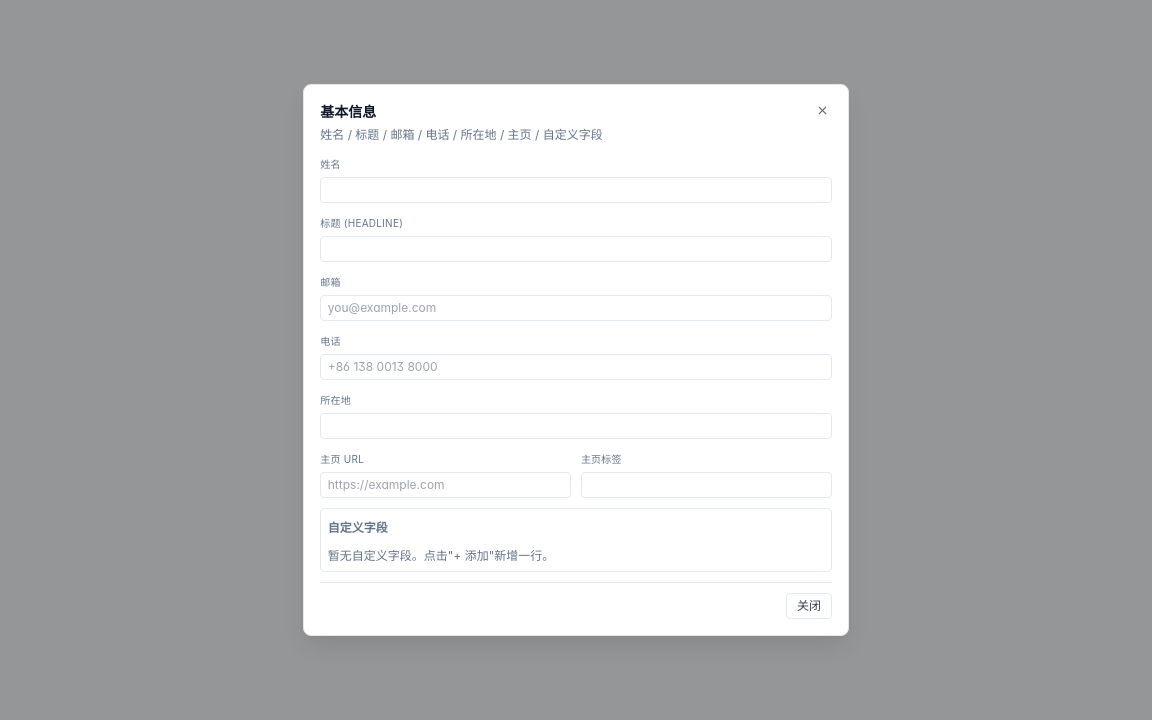
Test: BasicsDialog (AC-02, AC-04, AC-08c, AC-09, AC-02b) › javascript: URL is rejected on blur (AC-02b / AC-09b)
Type "javascript:alert(1)" into the field with test id "basics-website-url" at point(446, 485), box [320, 472, 571, 498]
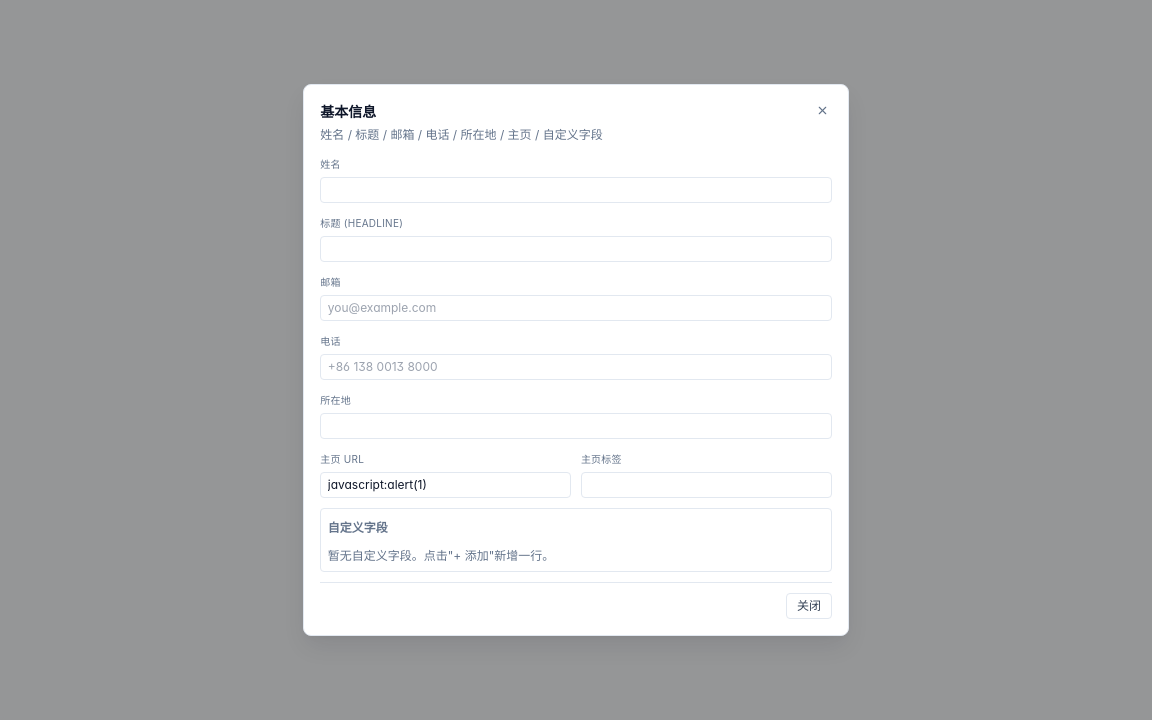
Leave the field with test id "basics-website-url", box [320, 472, 571, 498]
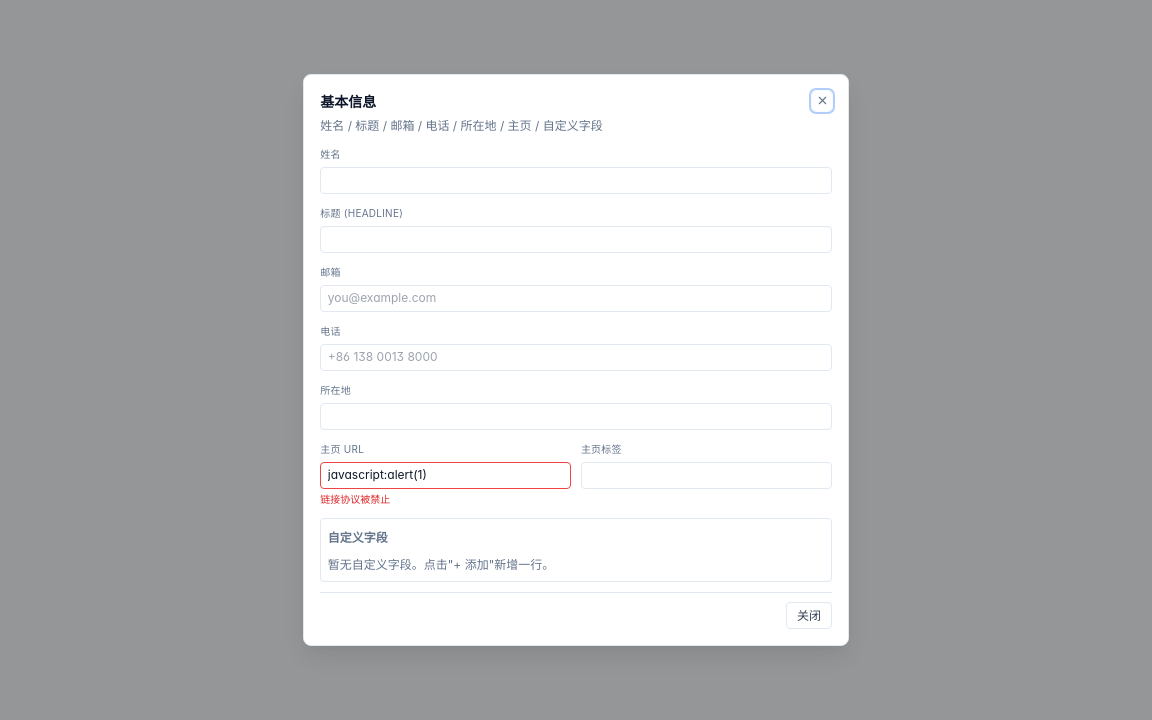
Check: the message "链接协议被禁止" is shown, box [320, 493, 390, 505]
